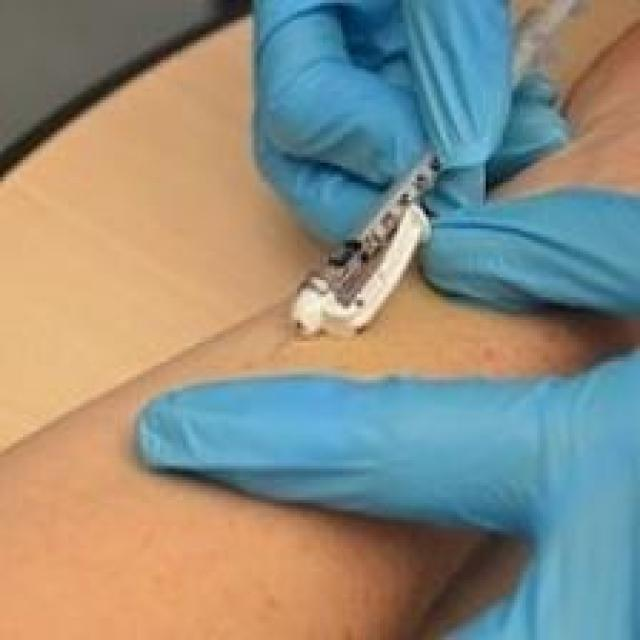syringe: (279, 61, 493, 371)
